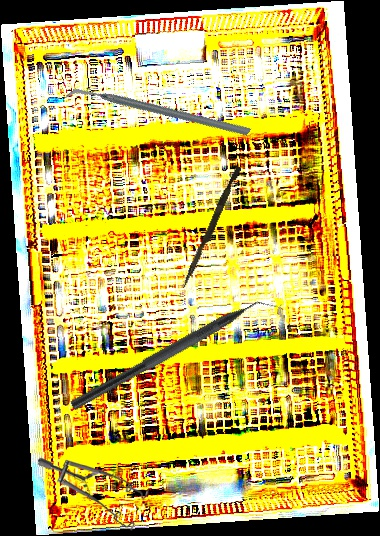Chopper: (64, 27, 252, 200), (68, 284, 285, 426)
Pusher: (181, 164, 242, 291)
Speculum: (38, 455, 150, 533)
